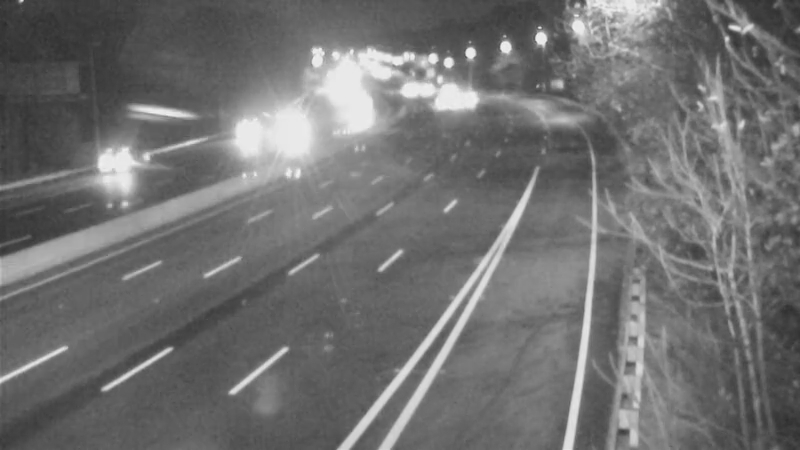vehicle: (72, 124, 152, 204), (439, 74, 489, 124), (413, 82, 463, 132), (223, 107, 273, 157), (256, 110, 306, 160), (329, 81, 379, 131)
